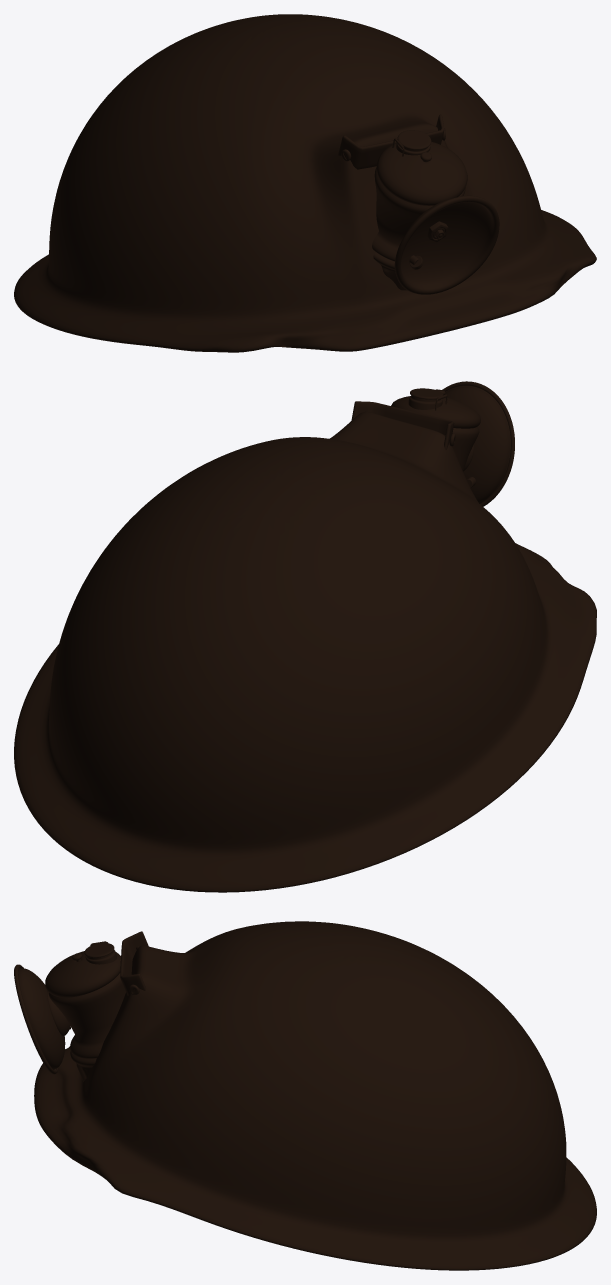
File: kask.fbx
The picture shows the model from 3 angles, top to bottom: view 1: azimuth 30°, elevation 25°; view 2: azimuth 150°, elevation 25°; view 3: azimuth 270°, elevation 25°; orthographic projection. The views are drawn at different scales.
Parts seen in each view (by area): view 1: Sphere, Cylinder; view 2: Sphere, Cylinder; view 3: Sphere, Cylinder.
Boxes of the visible parts, box(x1,y1,x2,y2) form: Sphere: box(14, 14, 596, 352); Cylinder: box(338, 114, 499, 294); Sphere: box(14, 411, 596, 892); Cylinder: box(351, 381, 514, 506); Sphere: box(34, 921, 596, 1270); Cylinder: box(14, 931, 148, 1081).
Bounding box in the file's own units: 22.57 × 13.68 × 26.7.
Materials: 1 (1 with a texture image).
